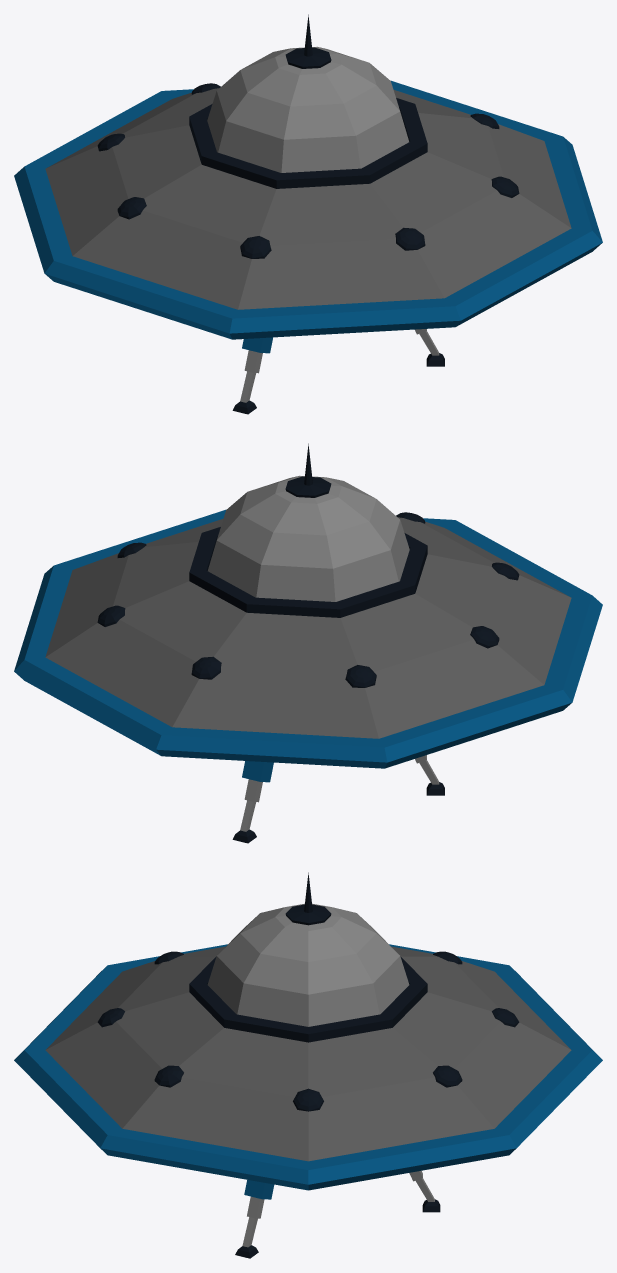
File: flying sacuer.obj
The picture shows the model from 3 angles, top to bottom: view 1: azimuth 30°, elevation 25°; view 2: azimuth 150°, elevation 25°; view 3: azimuth 270°, elevation 25°; orthographic projection. The views are drawn at different scales.
Size of the model in its own units: 2.24 by 1.41 by 2.24.
